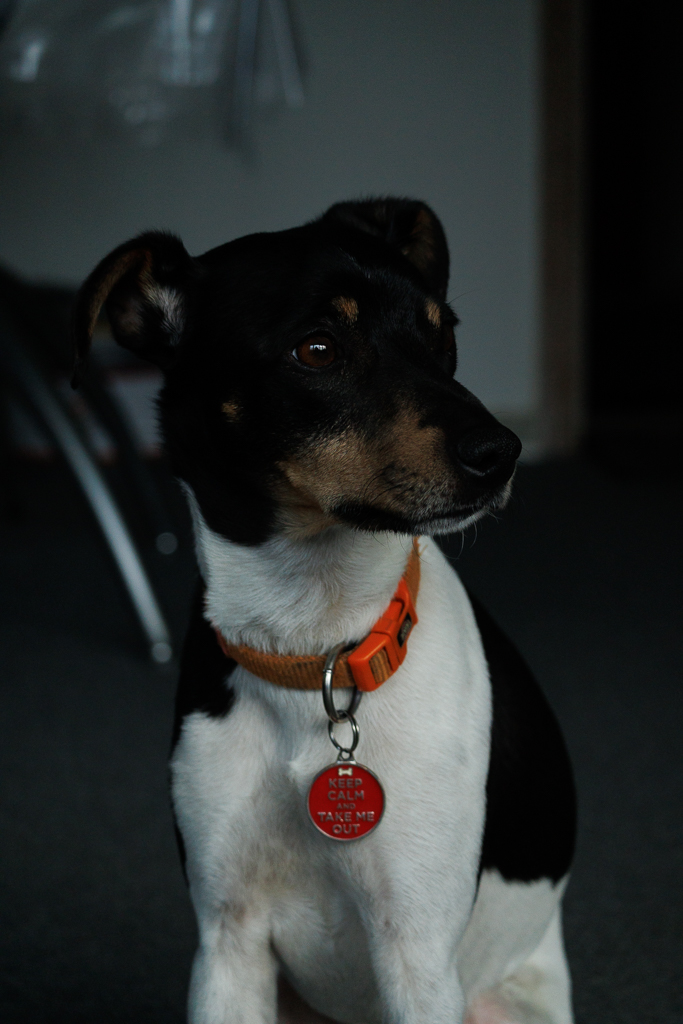Dog: (42, 175, 625, 1024)
